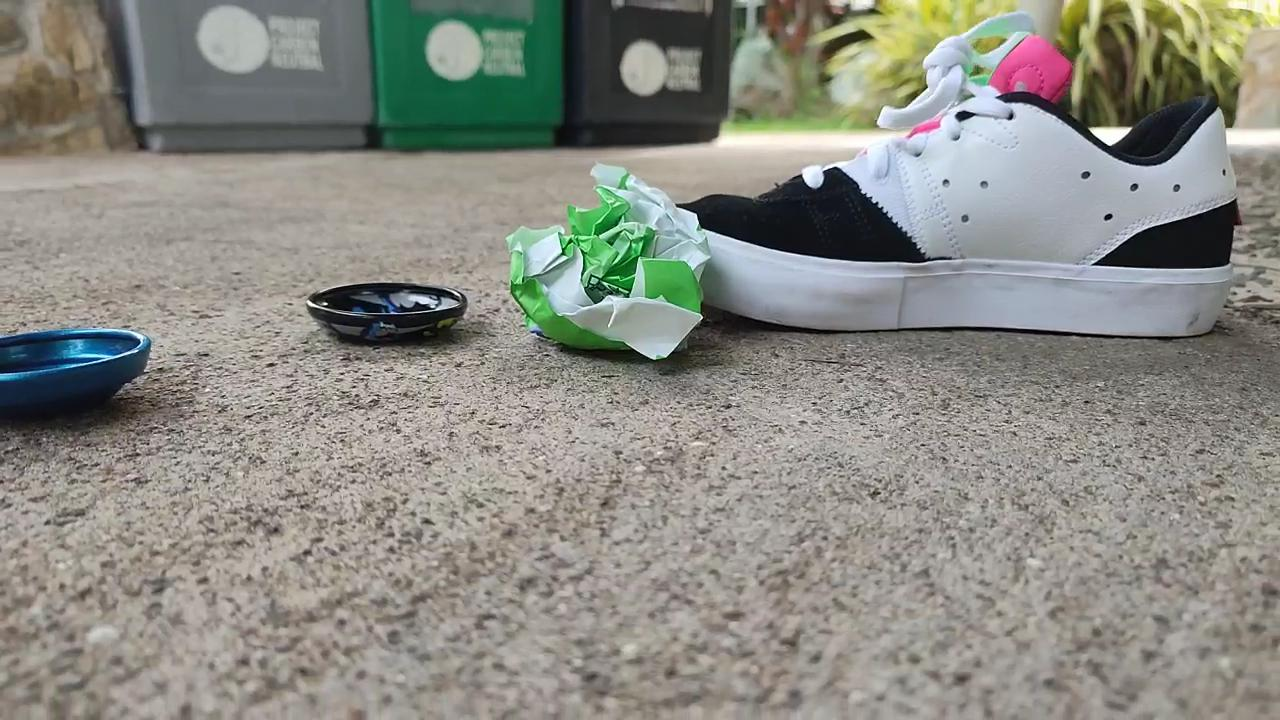Paper: (484, 149, 721, 375)
